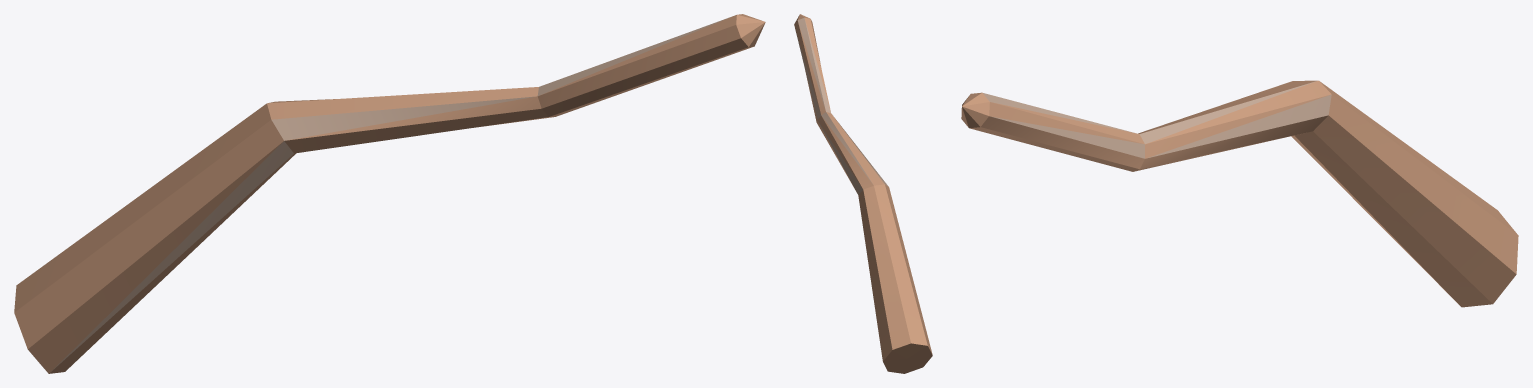
Rendered from branchSmallA.fbx.
3 views of the same model, side by side, from view 1: azimuth 30°, elevation 25°; view 2: azimuth 150°, elevation 25°; view 3: azimuth 270°, elevation 25° (orthographic). The views are drawn at different scales.
Visible parts, largest first — view 1: polySurface3; view 2: polySurface3; view 3: polySurface3.
Boxes of the visible parts, left/top/right/bottom form: polySurface3: left=14, top=14, right=765, bottom=373; polySurface3: left=794, top=14, right=932, bottom=373; polySurface3: left=961, top=80, right=1518, bottom=307.
Size of the model in its own units: 64.01 by 51.72 by 60.79.
Materials: 2 (2 with a texture image).
